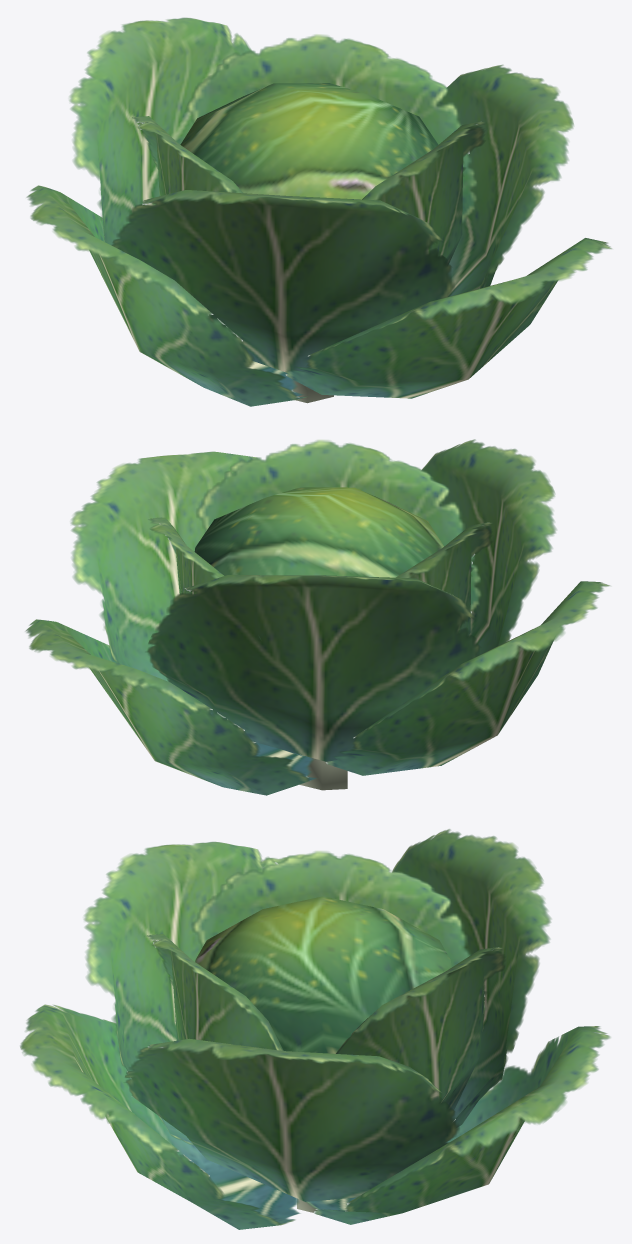
The model's file is plant_cabbage_S3.gltf.
The picture shows the model from 3 angles, top to bottom: view 1: azimuth 30°, elevation 25°; view 2: azimuth 150°, elevation 25°; view 3: azimuth 270°, elevation 25°; orthographic projection. The views are drawn at different scales.
Parts seen in each view (by area): view 1: plant_cabbage_S3; view 2: plant_cabbage_S3; view 3: plant_cabbage_S3.
Part boxes in pixels (<box>): plant_cabbage_S3: <box>26,17,611,406</box>; plant_cabbage_S3: <box>25,439,610,795</box>; plant_cabbage_S3: <box>20,829,610,1229</box>.
Size of the model in its own units: 0.5704 by 0.3388 by 0.6.
Materials: 1 (1 with a texture image).
